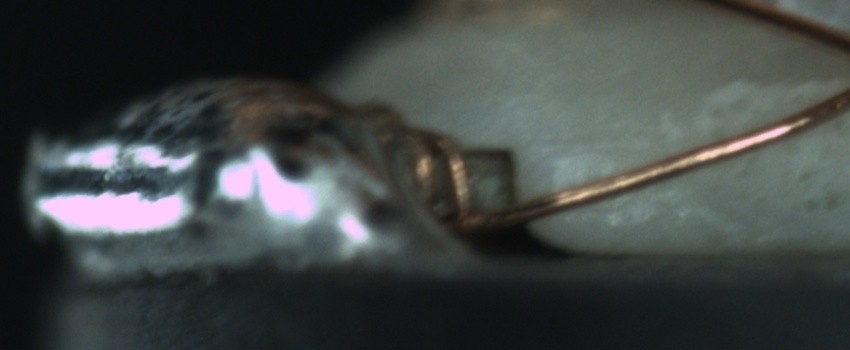DL: (550, 115, 657, 168)
TE: (396, 114, 485, 232)
